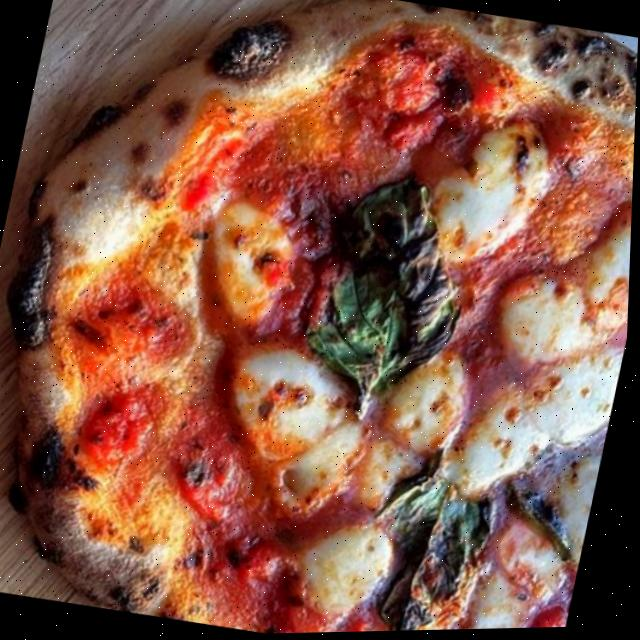basil: (286, 159, 494, 440), (350, 439, 515, 634), (498, 411, 612, 575)
pizza: (0, 0, 640, 640)
